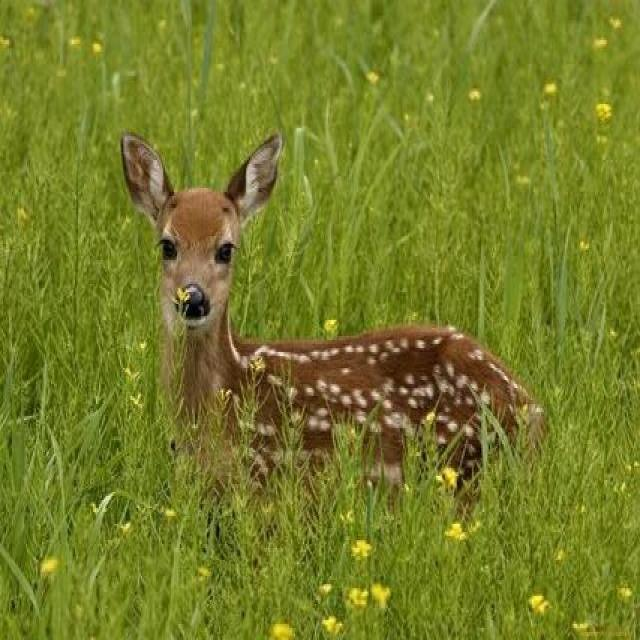deer: (150, 186, 504, 542)
